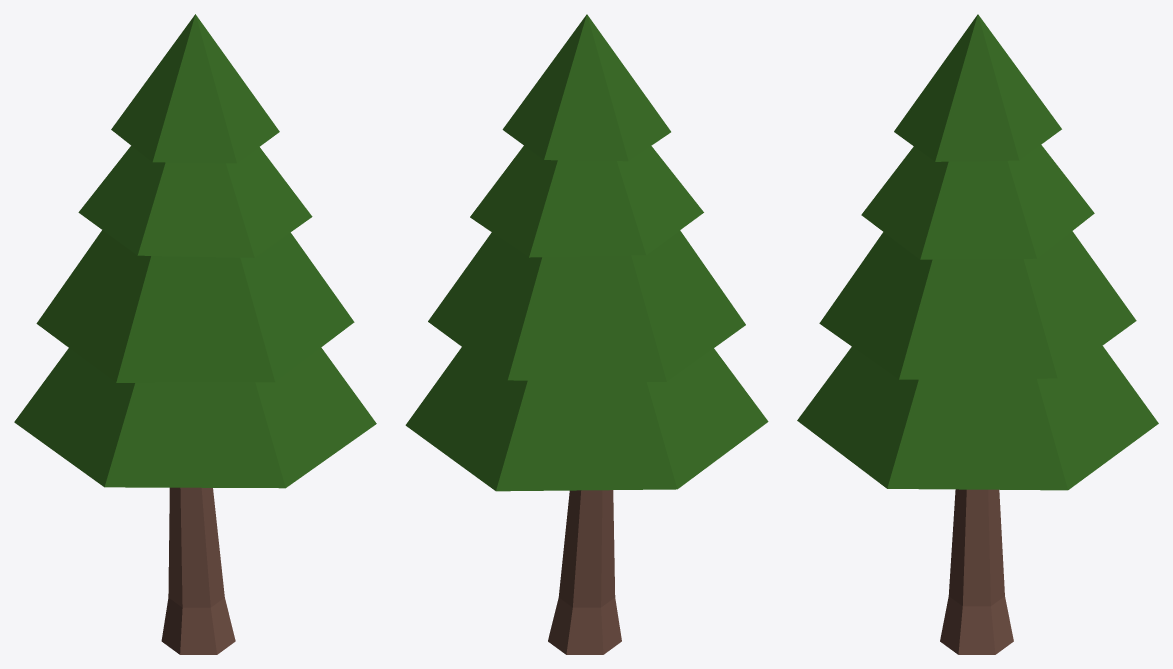
Rendered from Pine_Tree_Medium_1.fbx.
3 renders of one model, left to right at view 1: azimuth 30°, elevation 25°; view 2: azimuth 150°, elevation 25°; view 3: azimuth 270°, elevation 25°, orthographic.
Parts seen in each view (by area): view 1: Pine_Tree_Medium_1; view 2: Pine_Tree_Medium_1; view 3: Pine_Tree_Medium_1.
Boxes of the visible parts, x1,y1,x2,y2 form: Pine_Tree_Medium_1: (14,14,376,654); Pine_Tree_Medium_1: (405,14,768,654); Pine_Tree_Medium_1: (797,14,1158,654).
Bounding box in the file's own units: 668 × 1470 × 770.
Materials: 1 (1 with a texture image).
